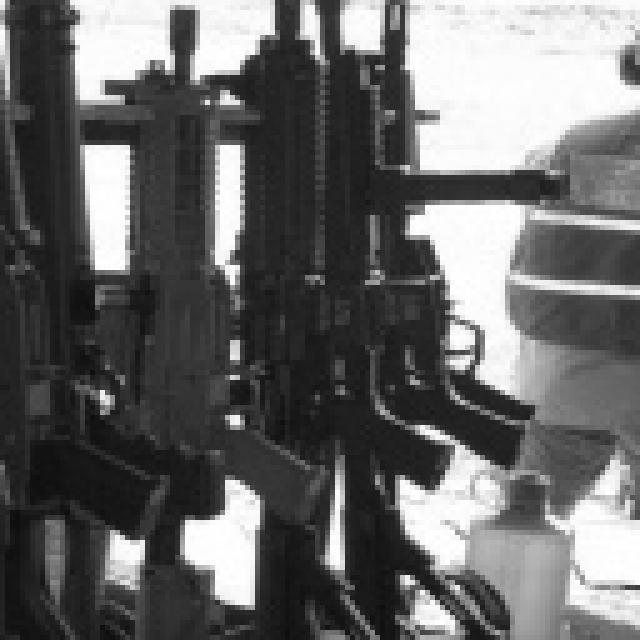Rifle: (305, 0, 570, 640), (106, 0, 336, 640), (8, 0, 229, 640), (199, 0, 385, 640), (0, 61, 168, 640), (385, 0, 533, 640)
